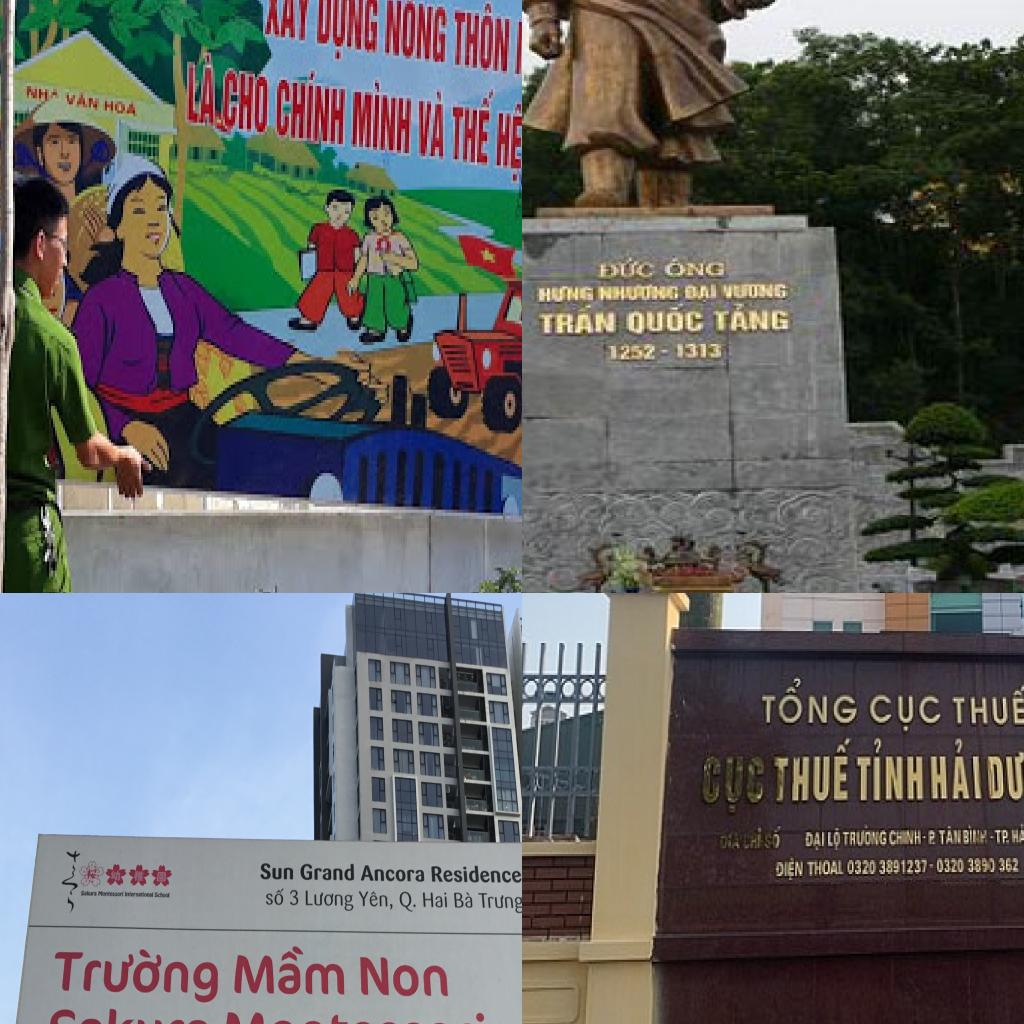text: (53, 946, 221, 1007), (277, 62, 349, 153), (232, 941, 346, 997), (771, 735, 855, 808), (349, 74, 415, 159), (761, 675, 859, 729), (383, 0, 453, 70), (451, 1, 513, 80), (855, 737, 925, 804), (315, 0, 383, 67), (358, 953, 450, 999), (451, 83, 499, 171), (701, 754, 767, 818), (223, 62, 271, 141), (928, 739, 985, 804), (45, 1002, 211, 1024), (951, 682, 1024, 728), (183, 46, 219, 138), (870, 692, 945, 736), (708, 302, 793, 336), (415, 86, 449, 168), (624, 304, 706, 338), (493, 98, 522, 192), (537, 306, 621, 338), (263, 0, 317, 46), (985, 750, 1024, 804), (593, 282, 683, 304), (430, 864, 522, 885), (848, 858, 936, 878), (662, 256, 729, 280), (596, 256, 657, 280), (603, 340, 660, 365), (532, 282, 596, 304), (721, 282, 790, 302), (359, 864, 426, 884), (843, 822, 888, 850), (304, 889, 354, 913), (477, 890, 522, 915), (299, 862, 355, 882), (65, 89, 103, 117), (103, 95, 141, 123), (772, 856, 806, 884), (683, 282, 721, 306), (806, 858, 846, 880), (357, 889, 394, 912), (928, 824, 963, 848), (992, 822, 1024, 848), (260, 861, 295, 882), (961, 824, 990, 848), (803, 828, 828, 854), (762, 824, 784, 852), (743, 826, 765, 852), (422, 891, 449, 909), (398, 890, 417, 915), (827, 826, 843, 854), (265, 887, 285, 907), (453, 890, 474, 909), (97, 890, 125, 898), (913, 828, 924, 848), (124, 891, 154, 898), (289, 888, 299, 908), (890, 828, 898, 848), (80, 889, 98, 897), (154, 891, 171, 899)
